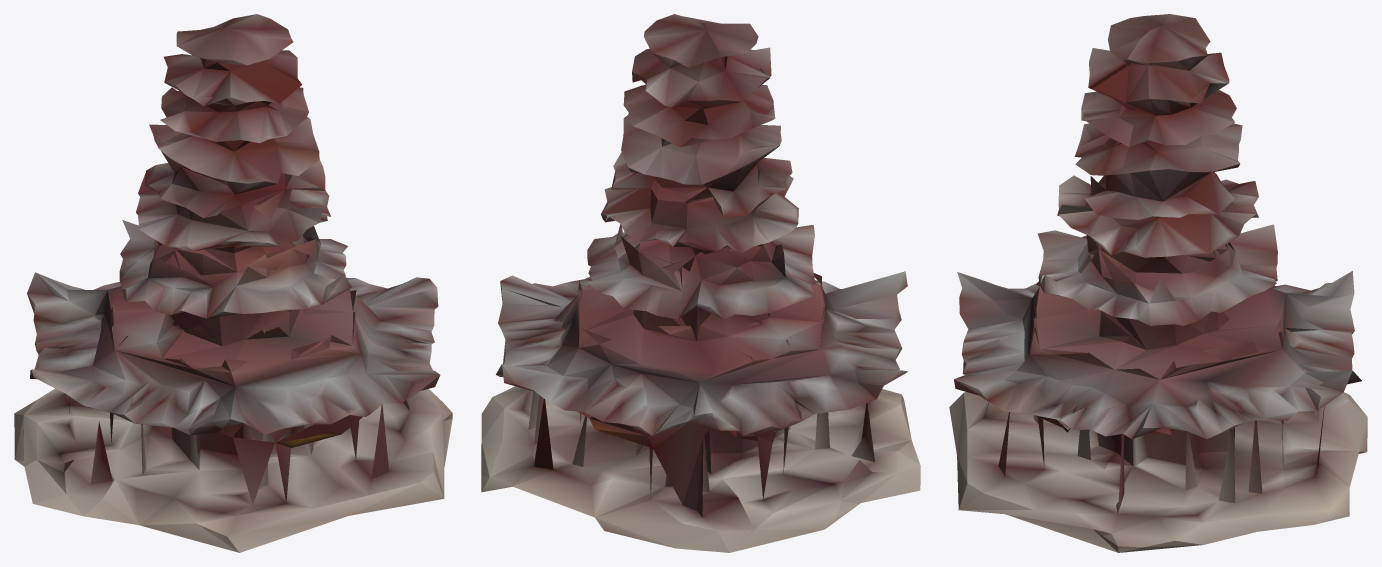
Rendered from lib_pagoda_red.vc2.glb.
The picture shows the model from 3 angles, left to right: view 1: azimuth 30°, elevation 25°; view 2: azimuth 150°, elevation 25°; view 3: azimuth 270°, elevation 25°; orthographic projection.
Visible parts, largest first — view 1: lib_pagoda_red; view 2: lib_pagoda_red; view 3: lib_pagoda_red.
Part boxes in pixels (bbox=[...]): lib_pagoda_red: bbox=[14, 14, 452, 552]; lib_pagoda_red: bbox=[481, 14, 920, 552]; lib_pagoda_red: bbox=[949, 14, 1367, 552].
Size of the model in its own units: 1.96 by 1.93 by 1.72.
